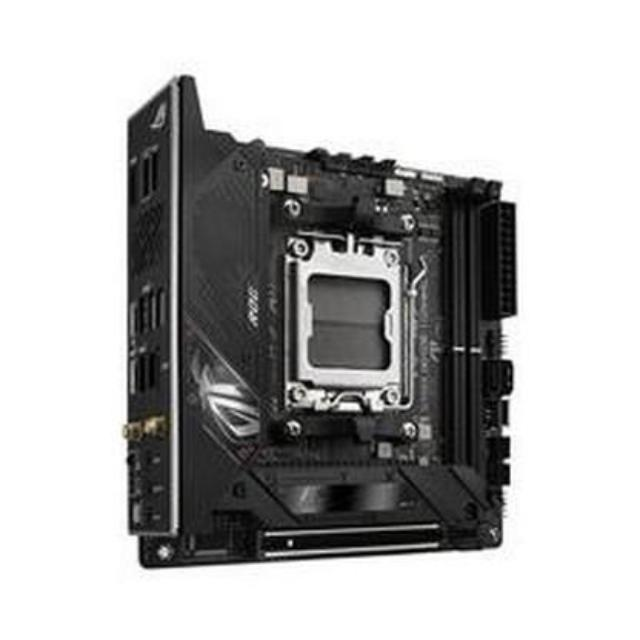Mainboard: (110, 70, 516, 576)
